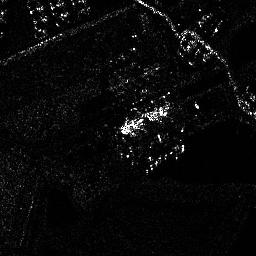ship: (144, 142, 186, 174)
